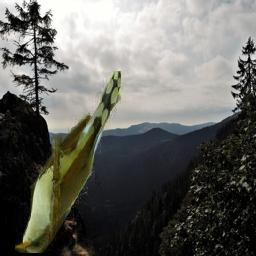Cuckoo: (15, 71, 121, 253)
